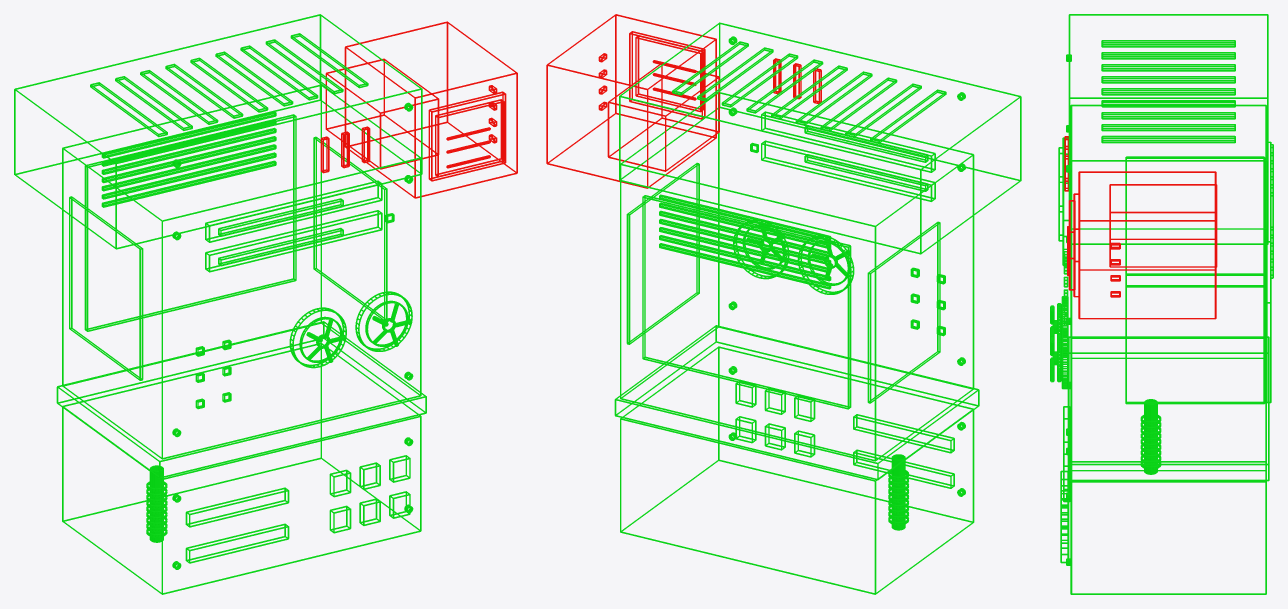
Rendered from asteroid-tracker-highlight-user-interface.glb.
3 renders of one model, left to right at view 1: azimuth 30°, elevation 25°; view 2: azimuth 150°, elevation 25°; view 3: azimuth 270°, elevation 25°, orthographic. The views are drawn at different scales.
Parts seen in each view (by area): view 1: chassis technical wire, user-interface technical wire, calibration-device technical wire, data-storage technical wire, cooling-fans technical wire; view 2: chassis technical wire, user-interface technical wire, calibration-device technical wire, data-storage technical wire, cooling-fans technical wire; view 3: chassis technical wire, user-interface technical wire, calibration-device technical wire, cooling-fans technical wire, data-storage technical wire.
Boxes of the visible parts, x1,y1,x2,y2 form: chassis technical wire: (14, 14, 426, 594); user-interface technical wire: (320, 21, 517, 198); calibration-device technical wire: (146, 339, 410, 563); data-storage technical wire: (205, 180, 394, 272); cooling-fans technical wire: (289, 291, 412, 368); chassis technical wire: (614, 22, 1021, 594); user-interface technical wire: (546, 14, 821, 188); calibration-device technical wire: (735, 267, 954, 530); data-storage technical wire: (750, 111, 935, 201); cooling-fans technical wire: (733, 219, 854, 294); chassis technical wire: (1066, 14, 1273, 594); user-interface technical wire: (1064, 136, 1217, 319); calibration-device technical wire: (1060, 251, 1161, 563); cooling-fans technical wire: (1050, 296, 1068, 389); data-storage technical wire: (1058, 137, 1068, 267).
Size of the model in its own units: 2.6 by 2.72 by 1.26.
